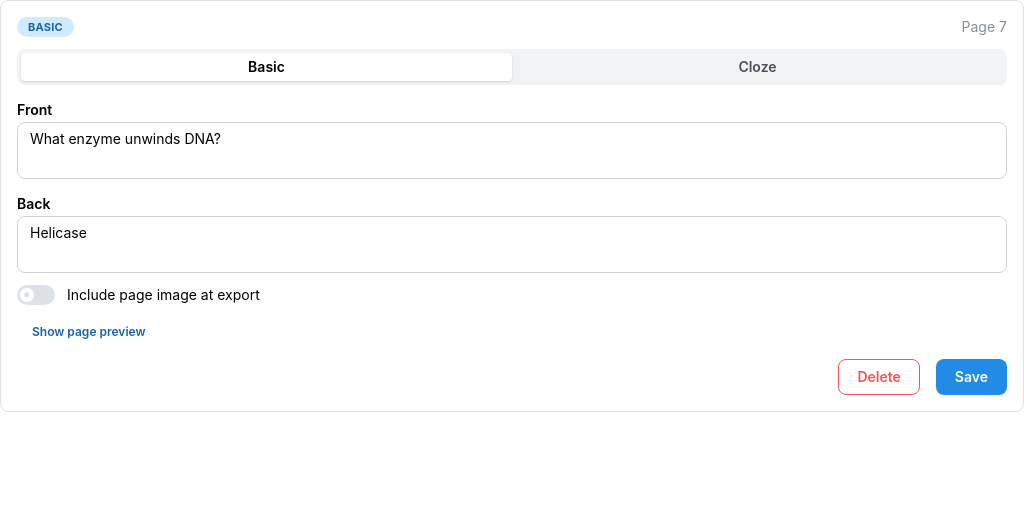
Test case: CardEditor › shows a 422 detail inline when save fails
The image size is (1024, 528).
Click the button "Save". click: (971, 377)
box: [936,359,1007,395]
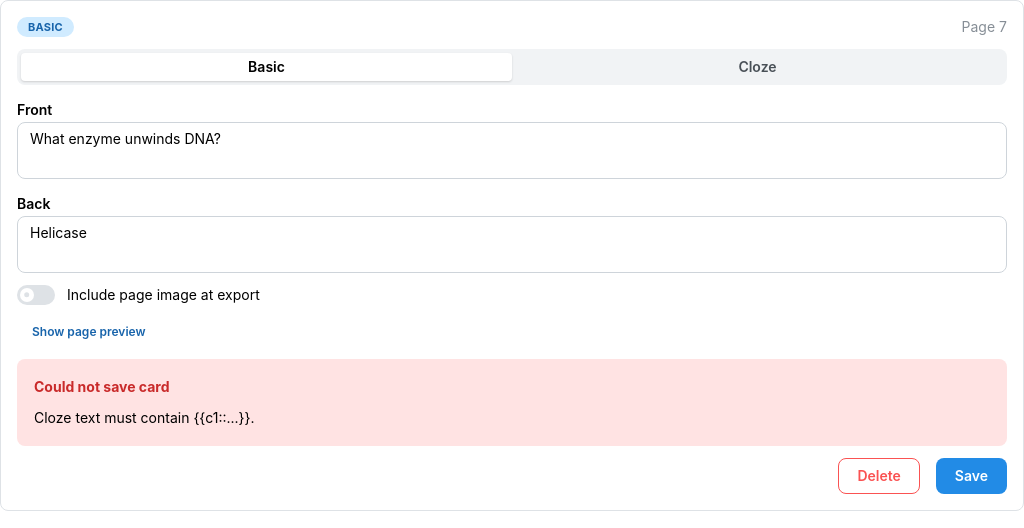
Expected: the text "Cloze text must contain {{c1::...}}." is shown, [34,409,254,426]
